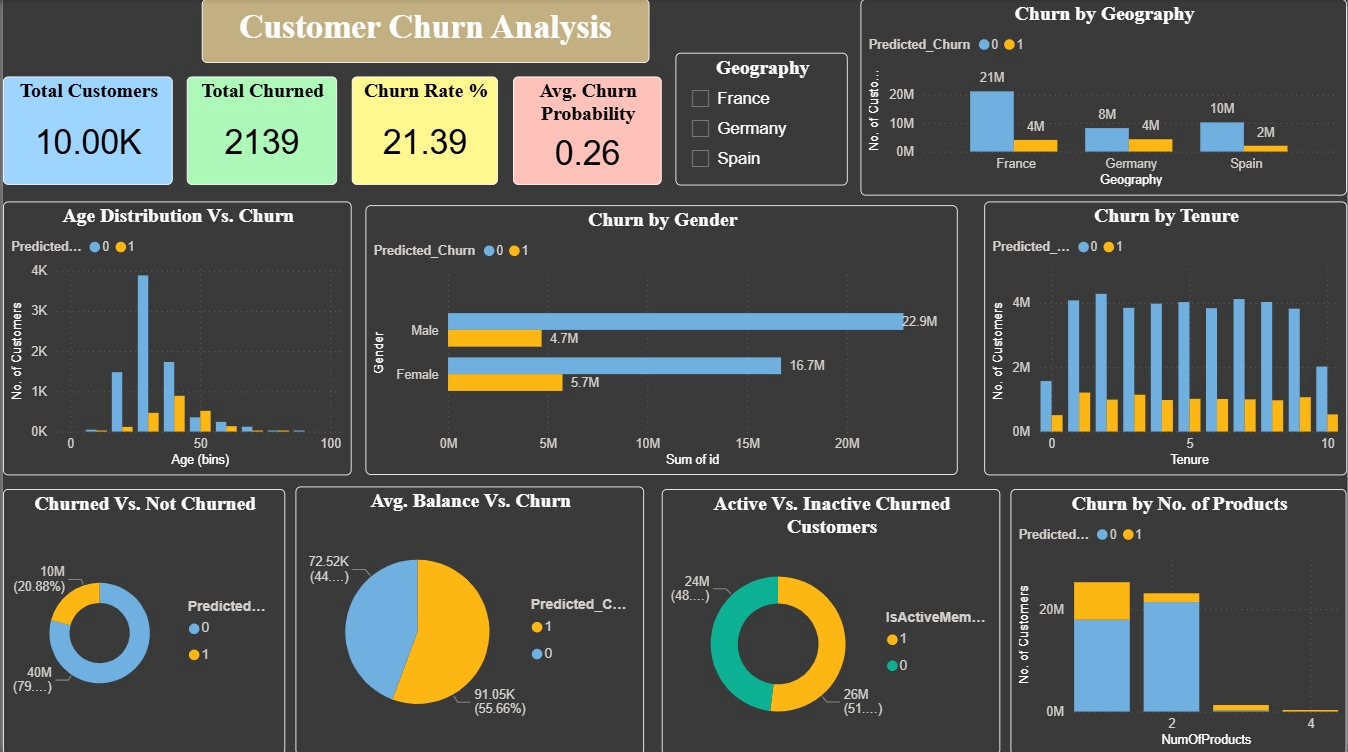

Layout of this report page (visuals, bound fields, positions):
{"tool":"powerbi","page":{"name":"Page 1","canvas":[1280,720],"ordinal":0},"visuals":[{"type":"textbox","box":[189.3,0,426.2,60.7],"z":0},{"type":"card","title":"Total Customers","fields":{"Values":["CountNonNull(churn_predictions_for_powerbi.id)"]},"box":[0,73.8,161.9,103.6],"z":1000},{"type":"card","title":"Total Churned","fields":{"Values":["Sum(churn_predictions_for_powerbi.Predicted_Churn)"]},"box":[175,73.8,142.9,103.6],"z":2000},{"type":"card","title":"Churn Rate %","fields":{"Values":["churn_predictions_for_powerbi.Churn Rate %"]},"box":[332.1,73.8,139.3,103.6],"z":3000},{"type":"card","title":"Avg. Churn Probability","fields":{"Values":["Avg(churn_predictions_for_powerbi.Churn_Probability)"]},"box":[485.7,73.8,141.7,103.6],"z":4000},{"type":"clusteredColumnChart","title":"Churn by Geography","fields":{"Category":["churn_predictions_for_powerbi.Geography"],"Series":["churn_predictions_for_powerbi.Predicted_Churn"],"Y":["Sum(churn_predictions_for_powerbi.id)"]},"box":[816.7,0,463.1,186.9],"z":5000},{"type":"donutChart","title":"Churned Vs. Not Churned","fields":{"Category":["churn_predictions_for_powerbi.Predicted_Churn"],"Y":["Sum(churn_predictions_for_powerbi.id)"]},"box":[0,466.7,269,253.6],"z":6000},{"type":"clusteredBarChart","title":"Churn by Gender","fields":{"Category":["churn_predictions_for_powerbi.Gender"],"Y":["Sum(churn_predictions_for_powerbi.id)"],"Series":["churn_predictions_for_powerbi.Predicted_Churn"]},"box":[345.2,196.4,564.3,257.1],"z":7000},{"type":"columnChart","title":"Churn by No. of Products","fields":{"Category":["churn_predictions_for_powerbi.NumOfProducts"],"Y":["Sum(churn_predictions_for_powerbi.id)"],"Series":["churn_predictions_for_powerbi.Predicted_Churn"]},"box":[959.5,466.7,320.2,253.6],"z":8000},{"type":"clusteredColumnChart","title":"Age Distribution Vs. Churn","fields":{"Y":["CountNonNull(churn_predictions_for_powerbi.id)"],"Series":["churn_predictions_for_powerbi.Predicted_Churn"],"Category":["churn_predictions_for_powerbi.Age (bins)"]},"box":[0,192.9,332.1,260.7],"z":9000},{"type":"clusteredColumnChart","title":"Churn by Tenure","fields":{"Y":["Sum(churn_predictions_for_powerbi.id)"],"Category":["churn_predictions_for_powerbi.Tenure"],"Series":["churn_predictions_for_powerbi.Predicted_Churn"]},"box":[934.5,192.9,345.2,260.7],"z":10000},{"type":"donutChart","title":"Active Vs. Inactive Churned Customers","fields":{"Category":["churn_predictions_for_powerbi.IsActiveMember"],"Y":["Sum(churn_predictions_for_powerbi.id)"]},"box":[627.4,466.7,322.6,253.6],"z":11000},{"type":"pieChart","title":"Avg. Balance Vs. Churn","fields":{"Category":["churn_predictions_for_powerbi.Predicted_Churn"],"Y":["Avg(churn_predictions_for_powerbi.Balance)"]},"box":[278.6,464.3,332.1,256],"z":12000},{"type":"slicer","title":"Geography","fields":{"Values":["churn_predictions_for_powerbi.Geography"]},"box":[640.5,51.2,164.3,126.2],"z":13000}]}

Visuals, with their boxes in screenshot pixels (x1, y1, x2, y2), scaled from the page's 1280x720 canvas onto the 1348x752 screenshot:
textbox: <region>199, 0, 648, 63</region>
"Total Customers" card: <region>0, 77, 171, 185</region>
"Total Churned" card: <region>184, 77, 335, 185</region>
"Churn Rate %" card: <region>350, 77, 496, 185</region>
"Avg. Churn Probability" card: <region>512, 77, 661, 185</region>
"Churn by Geography" clusteredColumnChart: <region>860, 0, 1347, 195</region>
"Churned Vs. Not Churned" donutChart: <region>0, 487, 283, 751</region>
"Churn by Gender" clusteredBarChart: <region>364, 205, 958, 474</region>
"Churn by No. of Products" columnChart: <region>1010, 487, 1347, 751</region>
"Age Distribution Vs. Churn" clusteredColumnChart: <region>0, 201, 350, 474</region>
"Churn by Tenure" clusteredColumnChart: <region>984, 201, 1347, 474</region>
"Active Vs. Inactive Churned Customers" donutChart: <region>661, 487, 1000, 751</region>
"Avg. Balance Vs. Churn" pieChart: <region>293, 485, 643, 751</region>
"Geography" slicer: <region>675, 53, 848, 185</region>
